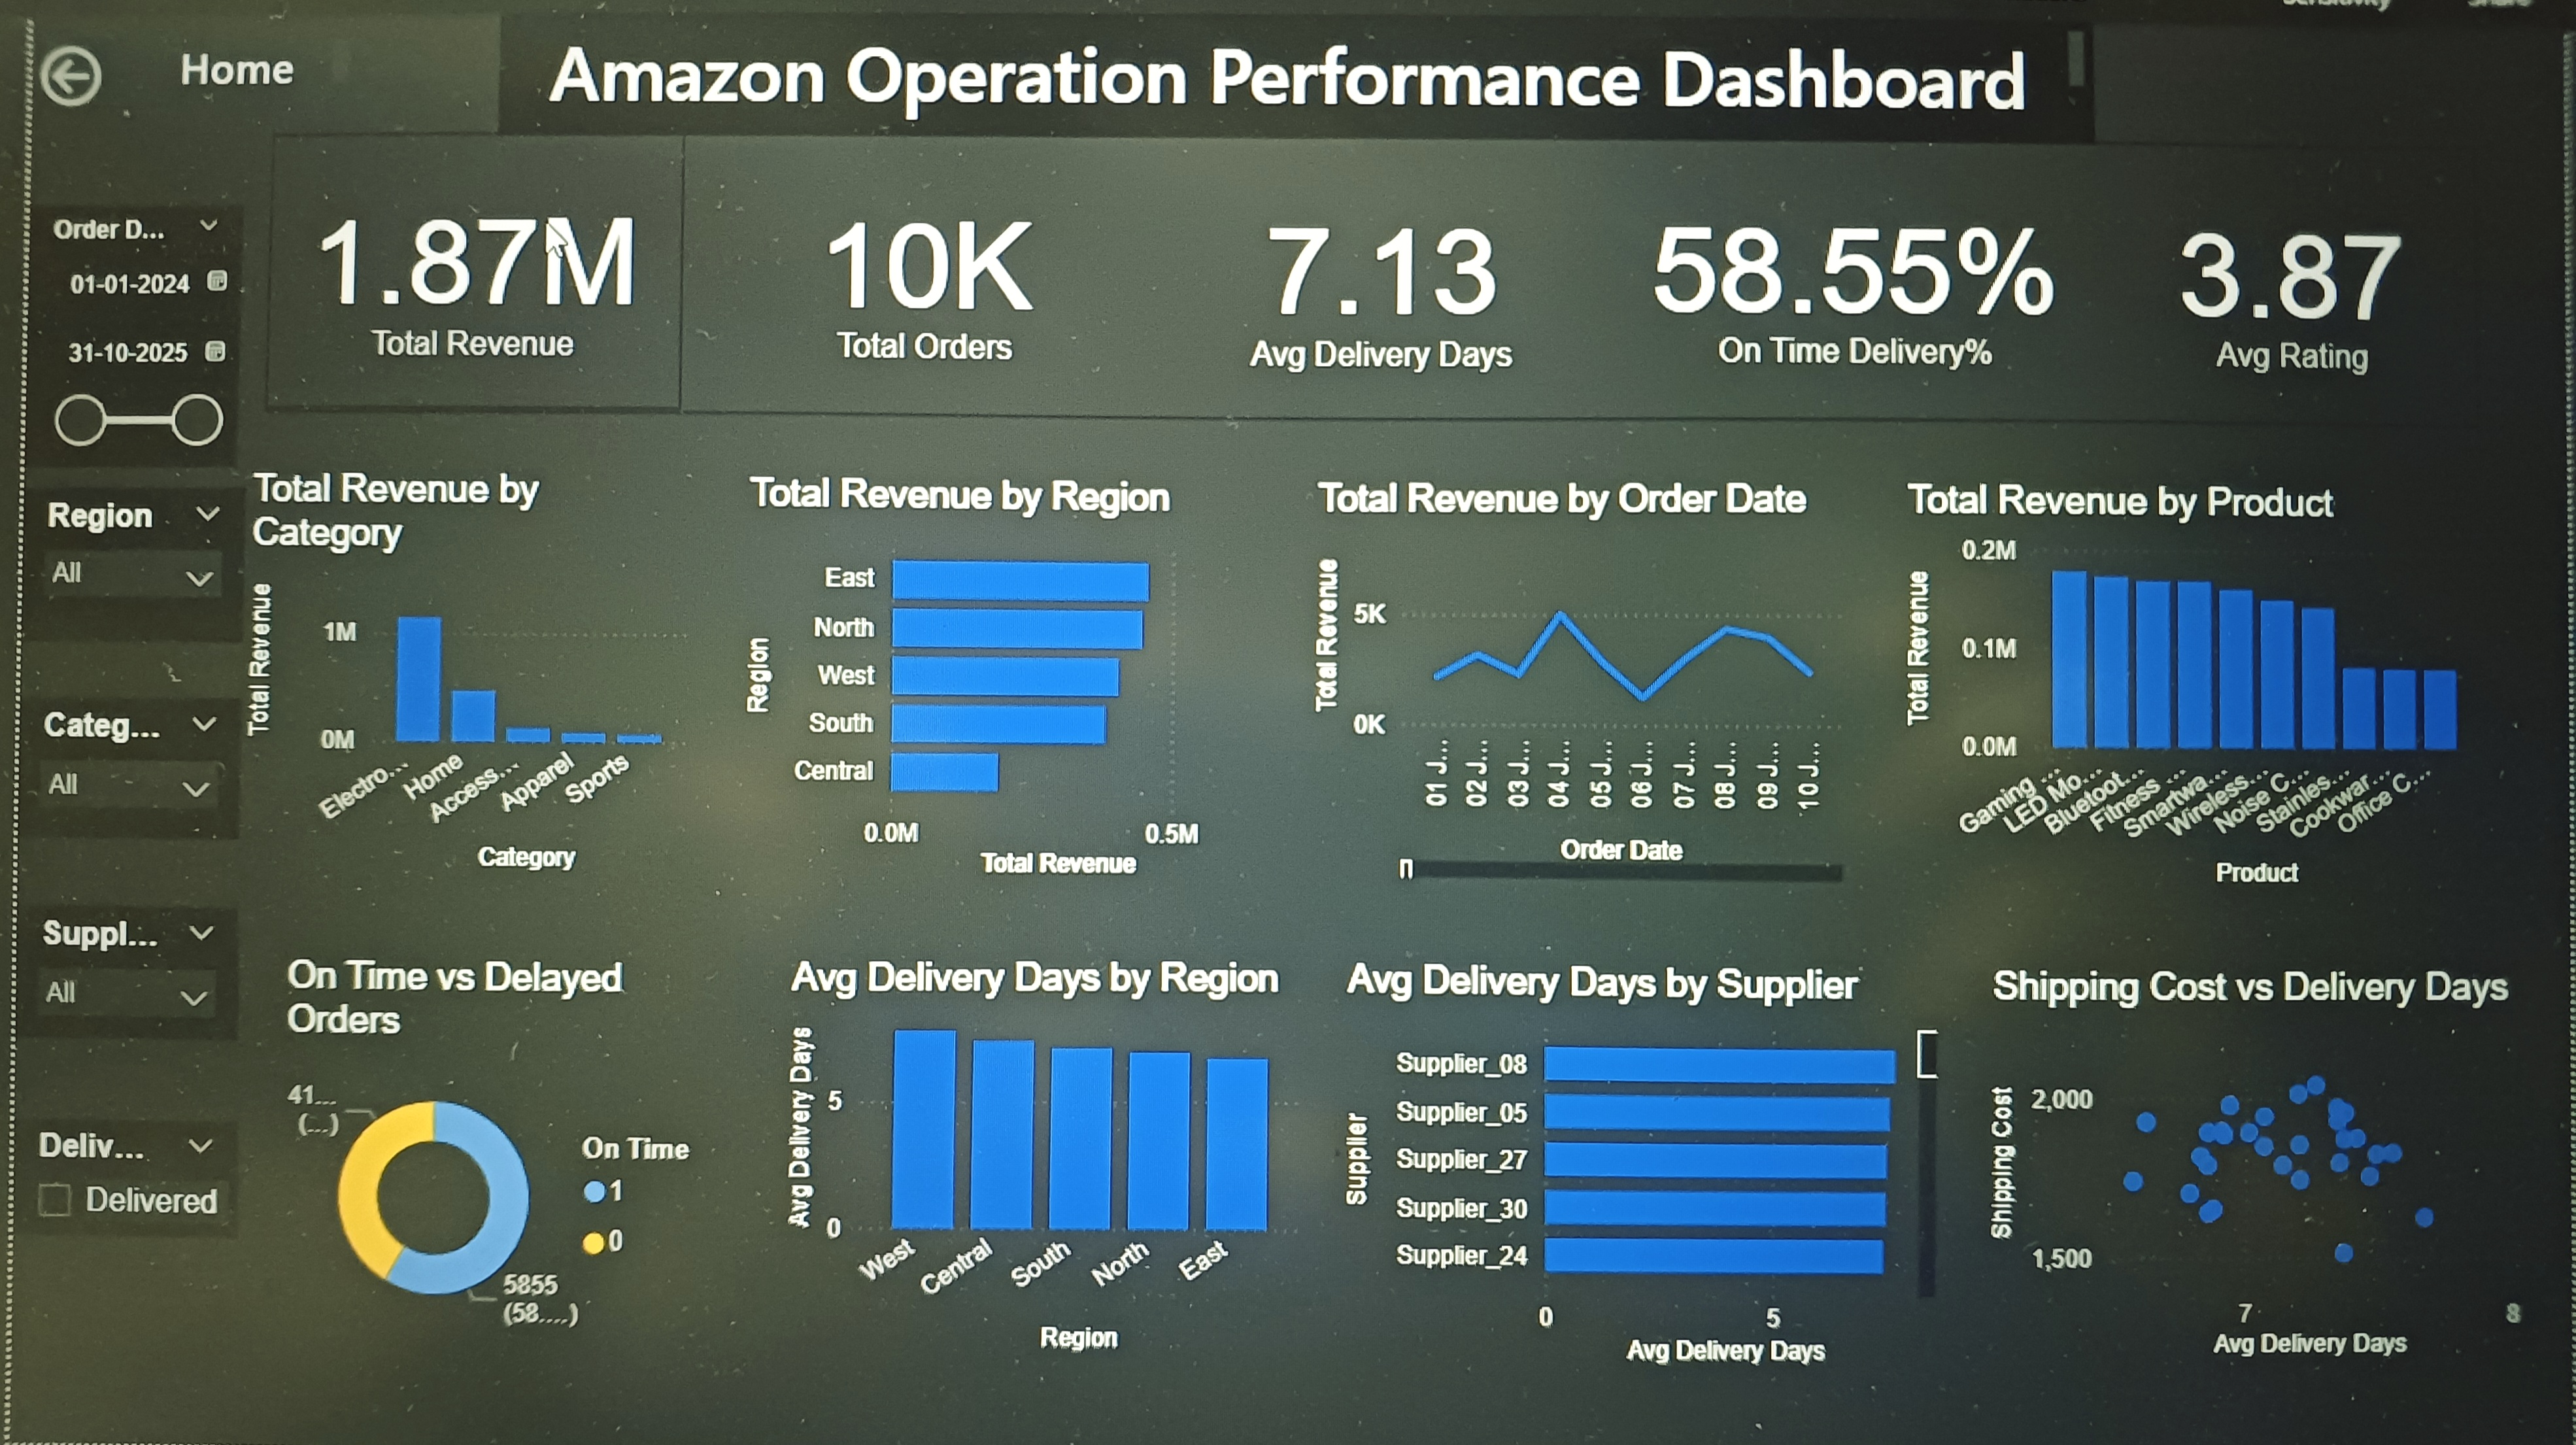

What the dashboard file says about the page in this screenshot:
{"tool":"powerbi","page":{"name":"Page 1","canvas":[1280,720],"ordinal":0},"visuals":[{"type":"group","id":"g1","title":"Group 1","box":[124.4,61,1110.9,141.8],"z":0},{"type":"card","fields":{"Values":["EDA_ready_file.Total Revenue"]},"box":[124.4,61,210,138.8],"z":0,"group":"g1"},{"type":"columnChart","fields":{"Category":["EDA_ready_file.Category"],"Y":["EDA_ready_file.Total Revenue"]},"box":[114.4,230.1,228.8,205],"z":0,"group":"g2"},{"type":"card","fields":{"Values":["EDA_ready_file.Total Orders"]},"box":[354.4,62.2,202.5,137.5],"z":1000,"group":"g1"},{"type":"group","id":"g2","title":"Group 2","box":[114.4,230.1,1122.1,206.5],"z":1000},{"type":"barChart","fields":{"Category":["EDA_ready_file.Region"],"Y":["EDA_ready_file.Total Revenue"]},"box":[364.4,231,262.5,206.2],"z":1000,"group":"g2"},{"type":"card","fields":{"Values":["EDA_ready_file.On Time Delivery%"]},"box":[811.9,62.2,215,137.5],"z":2000,"group":"g1"},{"type":"lineChart","title":"Total Revenue by Order Date","fields":{"Category":["EDA_ready_file.Order_Date"],"Y":["EDA_ready_file.Total Revenue"]},"box":[648.2,231,270,205],"z":2000,"group":"g2"},{"type":"group","id":"g3","title":"Group 3","box":[135.6,471.5,1123.3,202.8],"z":2000},{"type":"card","fields":{"Values":["EDA_ready_file.Avg Delivery Days"]},"box":[574.4,62.2,218.8,140],"z":3000,"group":"g1"},{"type":"group","id":"g4","title":"Group 4","box":[0,96.6,115,518.4],"z":3000},{"type":"columnChart","fields":{"Category":["EDA_ready_file.Product"],"Y":["EDA_ready_file.Total Revenue"]},"box":[940.6,231,295,206.2],"z":3000,"group":"g2"},{"type":"textbox","box":[240.1,0,799.9,62.2],"z":4000},{"type":"donutChart","title":"On Time vs Delayed Orders","fields":{"Y":["CountNonNull(EDA_ready_file.Order_ID)"],"Category":["EDA_ready_file.On_Time"]},"box":[135.6,472.7,232.5,200],"z":4000,"group":"g3"},{"type":"actionButton","box":[0,11.1,100,40],"z":5000},{"type":"columnChart","fields":{"Category":["EDA_ready_file.Region"],"Y":["EDA_ready_file.Avg Delivery Days"]},"box":[388.1,471.5,262.5,198.8],"z":5000,"group":"g3"},{"type":"textbox","box":[50,7.8,117.8,42.2],"z":6000},{"type":"barChart","fields":{"Category":["EDA_ready_file.Supplier"],"Y":["EDA_ready_file.Avg Delivery Days"]},"box":[664.4,471.5,300,202.5],"z":6000,"group":"g3"},{"type":"scatterChart","title":"Shipping Cost vs Delivery Days","fields":{"X":["EDA_ready_file.Avg Delivery Days"],"Y":["Sum(EDA_ready_file.Shipping_Cost)"],"Category":["EDA_ready_file.Supplier"]},"box":[983.1,471.5,276.2,200],"z":7000,"group":"g3"},{"type":"slicer","fields":{"Values":["EDA_ready_file.Order_Date"]},"box":[0,96.6,110,132.5],"z":8000,"group":"g4"},{"type":"slicer","fields":{"Values":["EDA_ready_file.Region"]},"box":[0,240,115,77.5],"z":9000,"group":"g4"},{"type":"slicer","fields":{"Values":["EDA_ready_file.Category"]},"box":[0,345,115,70],"z":10000,"group":"g4"},{"type":"slicer","fields":{"Values":["EDA_ready_file.Supplier"]},"box":[0,450,115,66.2],"z":11000,"group":"g4"},{"type":"card","fields":{"Values":["EDA_ready_file.Avg Rating"]},"box":[1043.2,62.2,192.5,137.5],"z":12000,"group":"g1"},{"type":"slicer","fields":{"Values":["EDA_ready_file.Delivery_Status"]},"box":[0,556.3,115,58.8],"z":12000,"group":"g4"}]}

Visuals, with their boxes on the page's 1280x720 design canvas (x1, y1, x2, y2). These are canvas units, not pixel positions in the 2576x1445 screenshot, which may show the page scaled, cropped or inside an application window:
"Group 1" group: 124/61/1235/203
card - EDA_ready_file.Total Revenue: 124/61/334/200
columnChart - EDA_ready_file.Category x EDA_ready_file.Total Revenue: 114/230/343/435
card - EDA_ready_file.Total Orders: 354/62/557/200
"Group 2" group: 114/230/1236/437
barChart - EDA_ready_file.Region x EDA_ready_file.Total Revenue: 364/231/627/437
card - EDA_ready_file.On Time Delivery%: 812/62/1027/200
"Total Revenue by Order Date" lineChart: 648/231/918/436
"Group 3" group: 136/472/1259/674
card - EDA_ready_file.Avg Delivery Days: 574/62/793/202
"Group 4" group: 0/97/115/615
columnChart - EDA_ready_file.Product x EDA_ready_file.Total Revenue: 941/231/1236/437
textbox: 240/0/1040/62
"On Time vs Delayed Orders" donutChart: 136/473/368/673
actionButton: 0/11/100/51
columnChart - EDA_ready_file.Region x EDA_ready_file.Avg Delivery Days: 388/472/651/670
textbox: 50/8/168/50
barChart - EDA_ready_file.Supplier x EDA_ready_file.Avg Delivery Days: 664/472/964/674
"Shipping Cost vs Delivery Days" scatterChart: 983/472/1259/672
slicer - EDA_ready_file.Order_Date: 0/97/110/229
slicer - EDA_ready_file.Region: 0/240/115/318
slicer - EDA_ready_file.Category: 0/345/115/415
slicer - EDA_ready_file.Supplier: 0/450/115/516
card - EDA_ready_file.Avg Rating: 1043/62/1236/200
slicer - EDA_ready_file.Delivery_Status: 0/556/115/615
